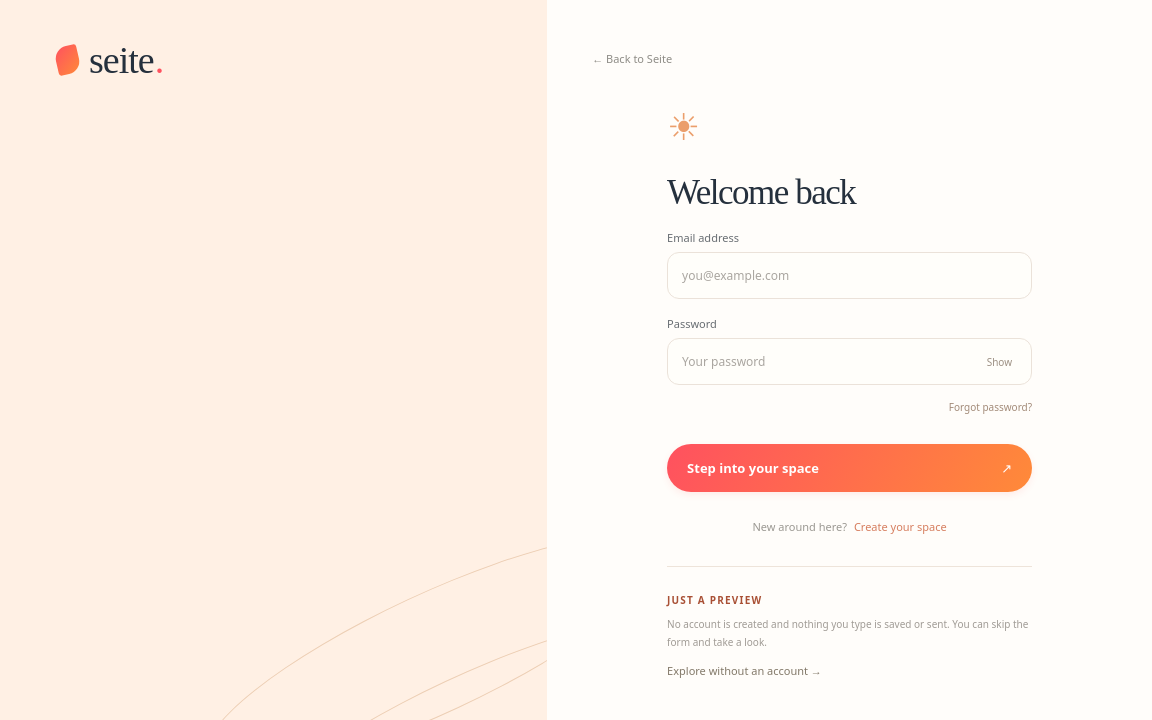
account navigation › provides a password-help path without pretending to send a reset email
Click the button "Forgot password?". click: (990, 407)
box: [949,394,1032,420]
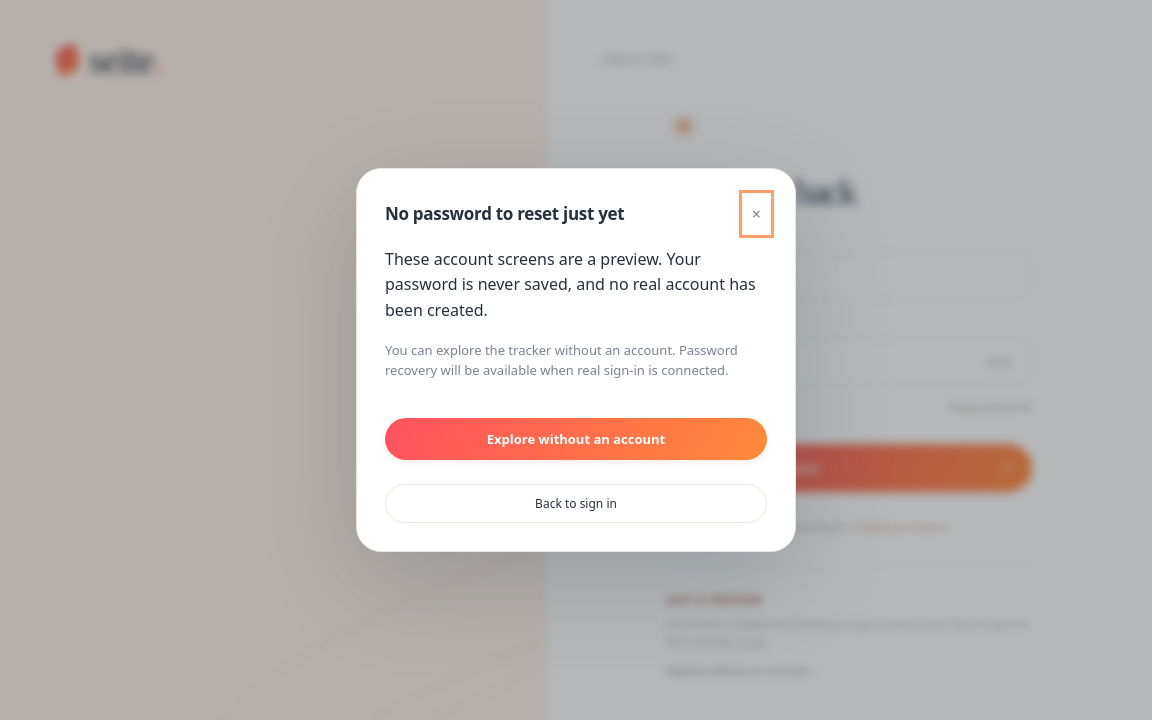
Now the dialog shows "Your password is never saved", box [385,248,756,321]
Click the button "Back to sign in". click: (576, 504)
box: [385,484,767,523]
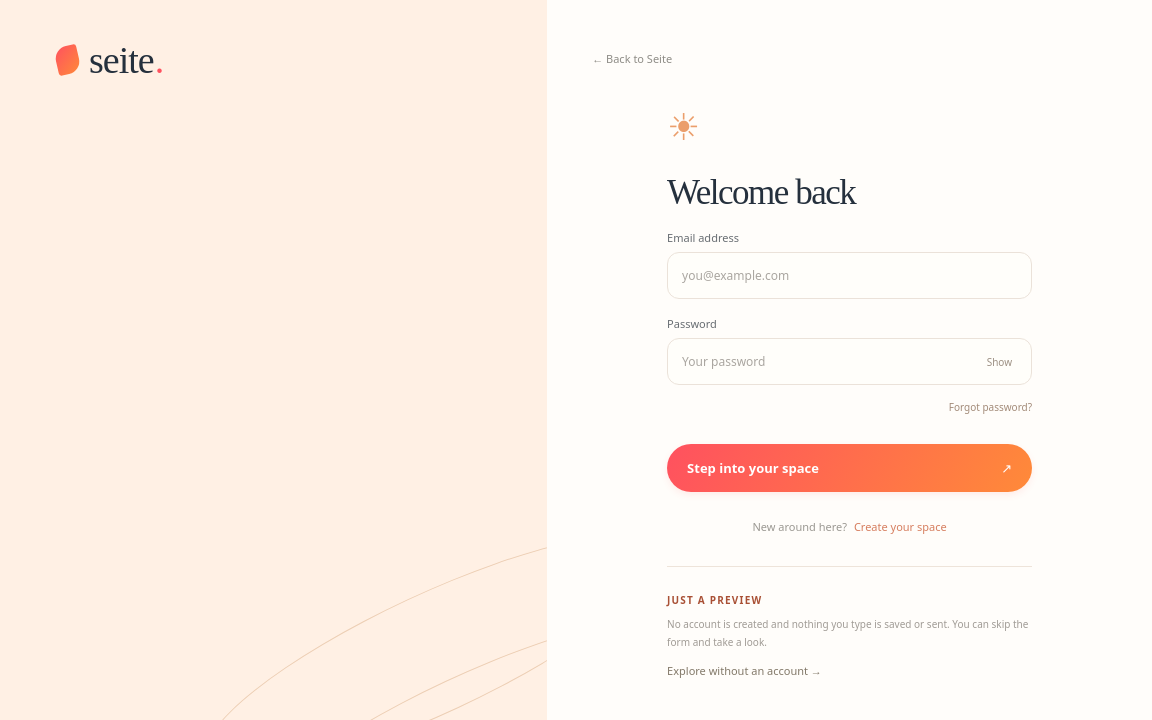
Now the dialog is gone
